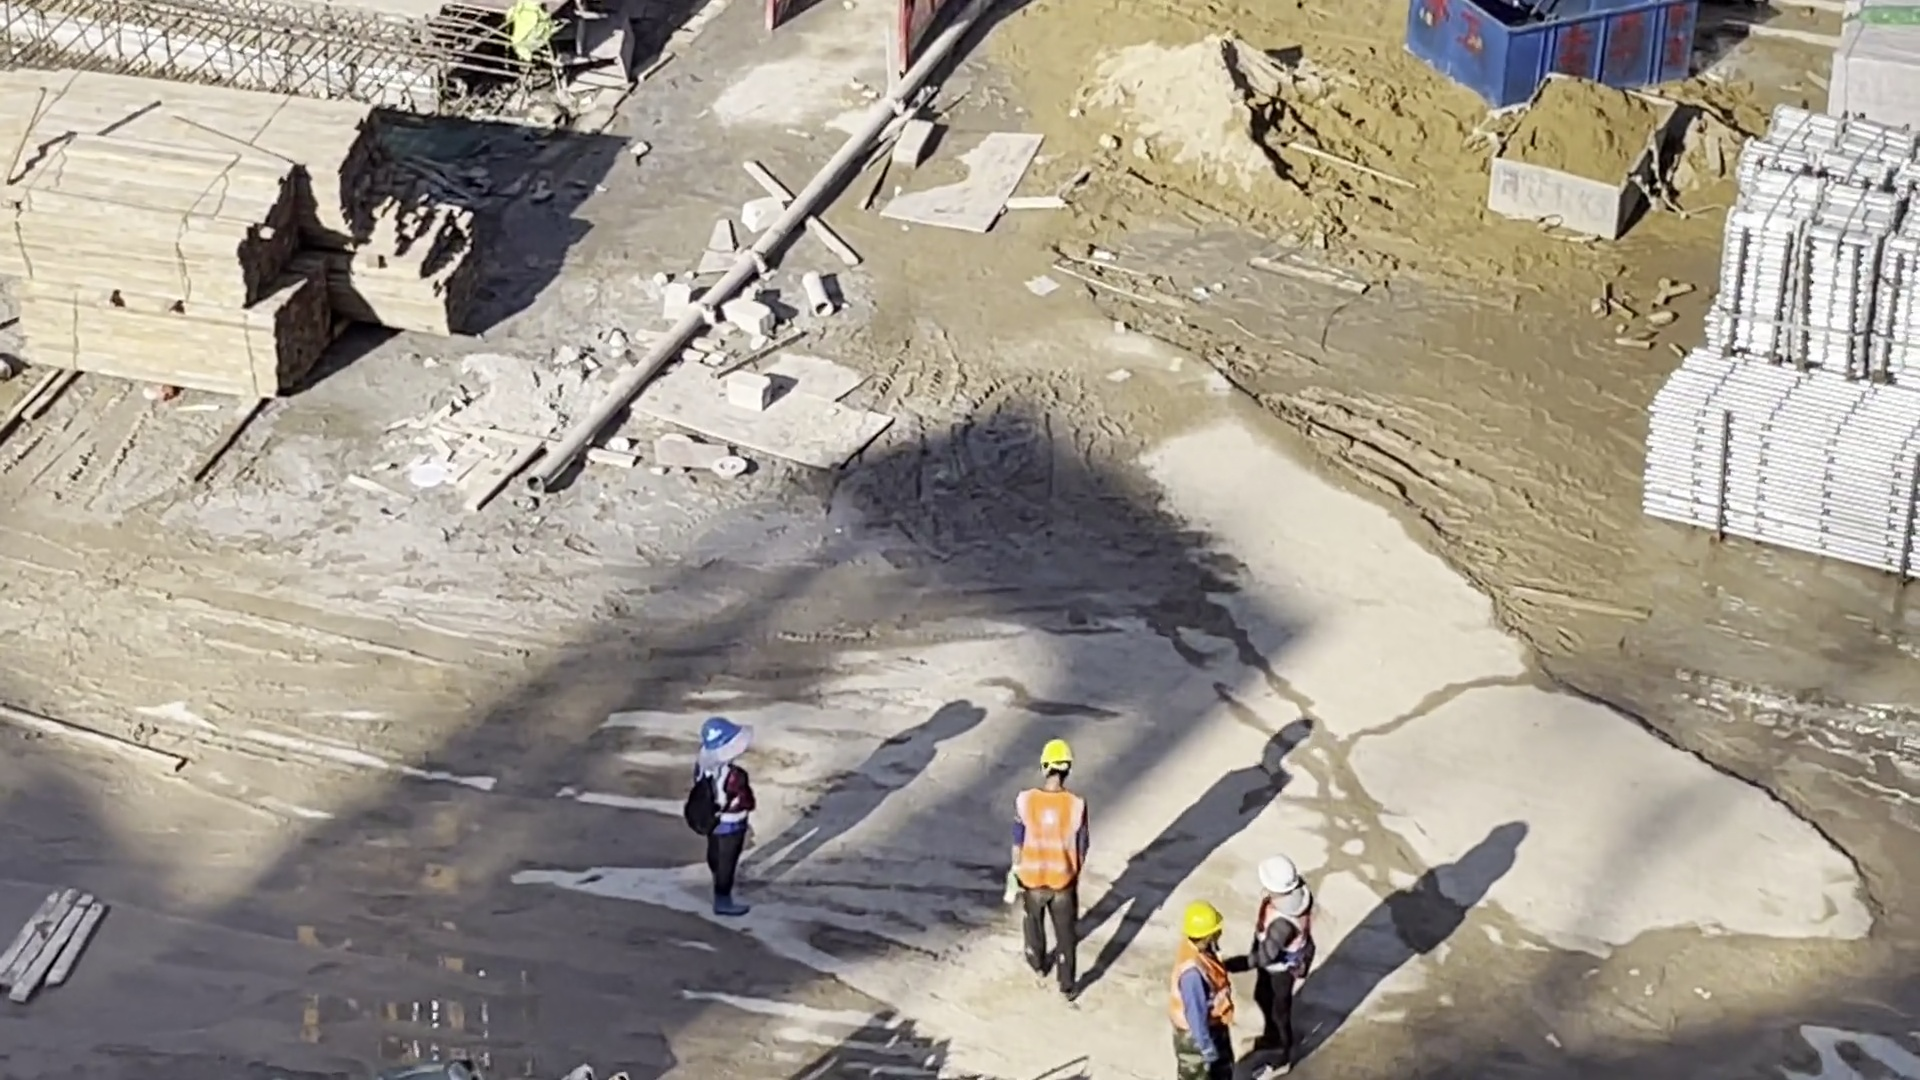helmet: (1258, 851, 1300, 895), (1183, 904, 1223, 937), (702, 720, 747, 746), (1039, 739, 1075, 768)
person: (1008, 741, 1089, 1003), (1227, 853, 1313, 1080), (698, 719, 758, 919), (1171, 908, 1233, 1080)
vest: (1012, 789, 1081, 891), (1171, 947, 1231, 1024), (709, 764, 752, 835)
